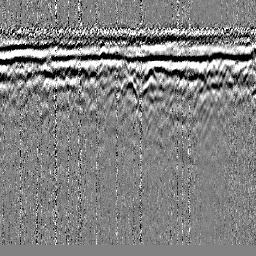cavity: (117, 74, 139, 101)
